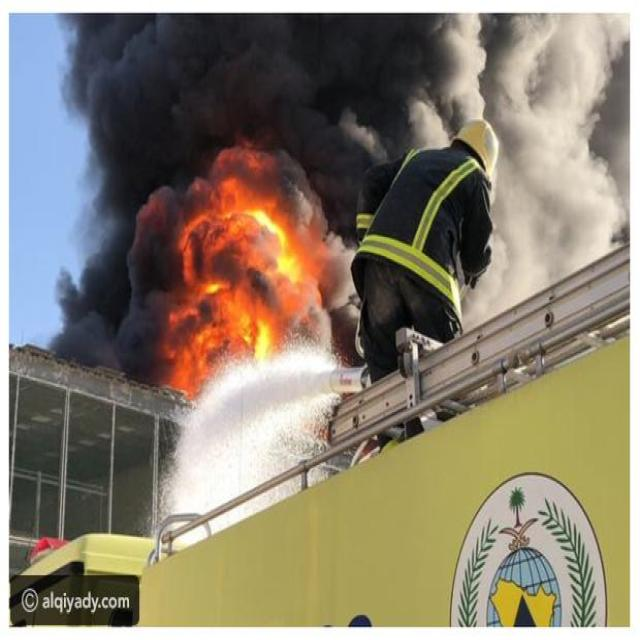Fire: (150, 159, 367, 429)
Smoke: (63, 19, 640, 158), (392, 103, 628, 348)
